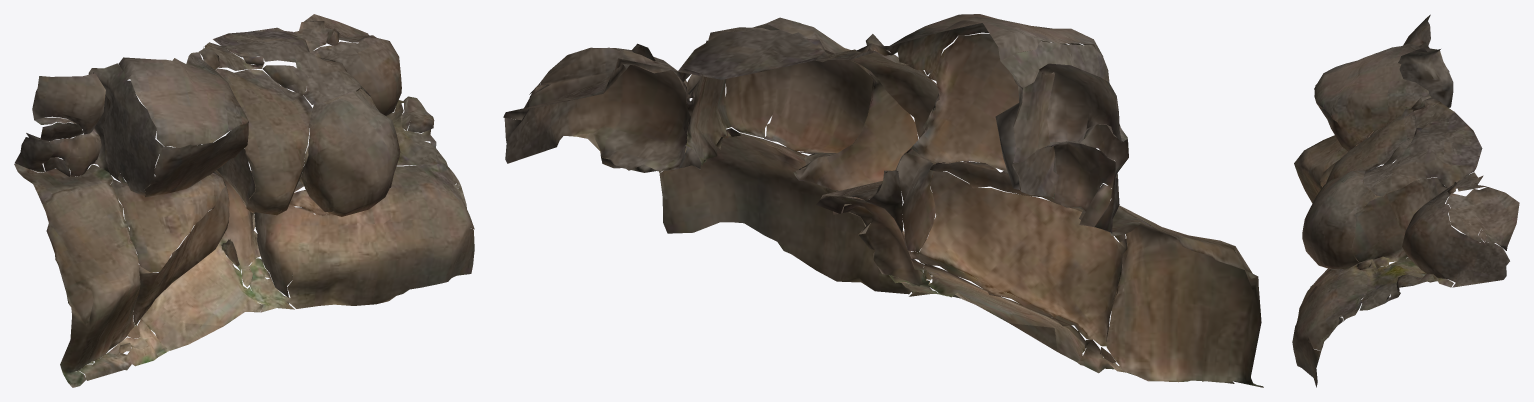
File: namaqualand_cliff_01_lod1.glb
3 renders of one model, left to right at view 1: azimuth 30°, elevation 25°; view 2: azimuth 150°, elevation 25°; view 3: azimuth 270°, elevation 25°, orthographic. The views are drawn at different scales.
Visible parts, largest first — view 1: drone_rock_01; view 2: drone_rock_01; view 3: drone_rock_01.
Boxes of the visible parts, x1=… form: drone_rock_01: x1=14, y1=14, x2=474, y2=387; drone_rock_01: x1=503, y1=14, x2=1263, y2=387; drone_rock_01: x1=1292, y1=14, x2=1519, y2=387.
Size of the model in its own units: 8.27 by 4.95 by 4.39.
Materials: 1 (1 with a texture image).
